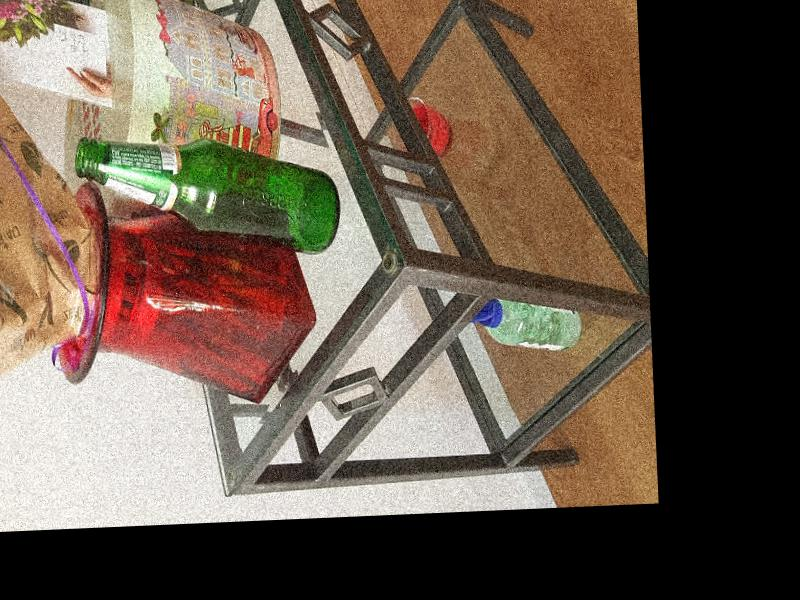Beer: (73, 129, 343, 262)
